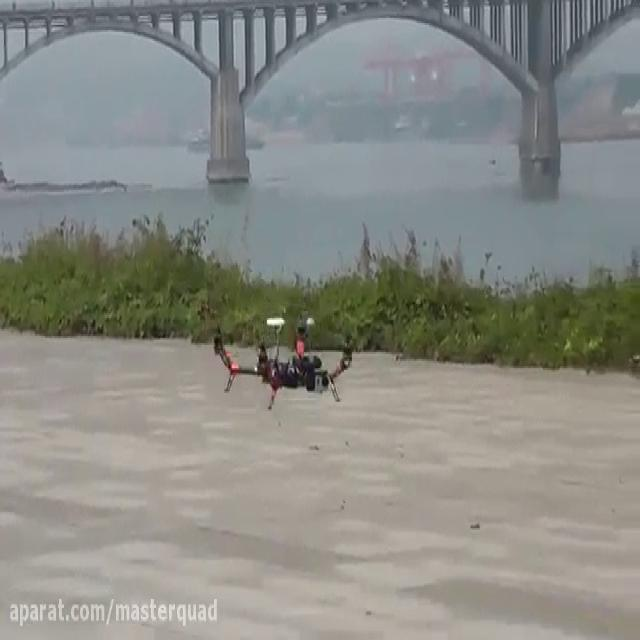drone: (201, 310, 361, 412)
